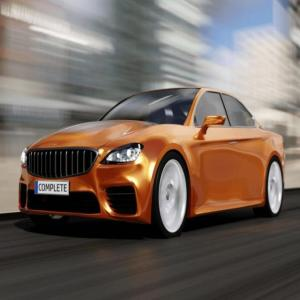Plate: (34, 181, 69, 196)
